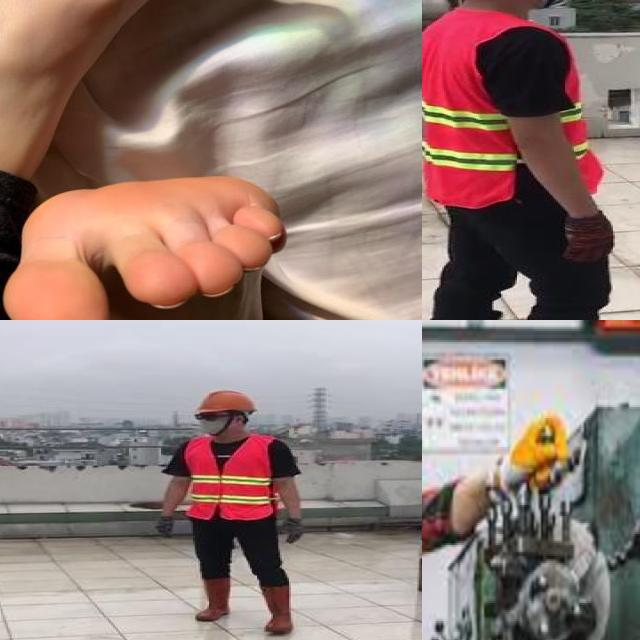Barefoots: (0, 145, 312, 320), (0, 0, 220, 173)
boots: (259, 583, 296, 635), (193, 579, 232, 623)
face_mask: (189, 406, 234, 437)
glasses: (185, 408, 222, 424)
hand_glove: (563, 215, 617, 263), (282, 518, 305, 544), (154, 515, 175, 537)
head_helmet: (196, 389, 258, 418)
person: (422, 0, 640, 320), (145, 384, 315, 640)
vest: (422, 10, 602, 205), (188, 435, 274, 522)
